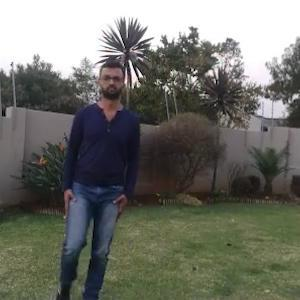follow: (55, 27, 144, 299)
